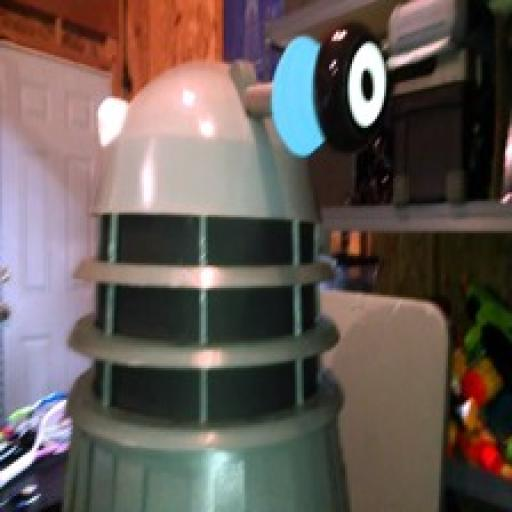dalek: (60, 37, 391, 512)
